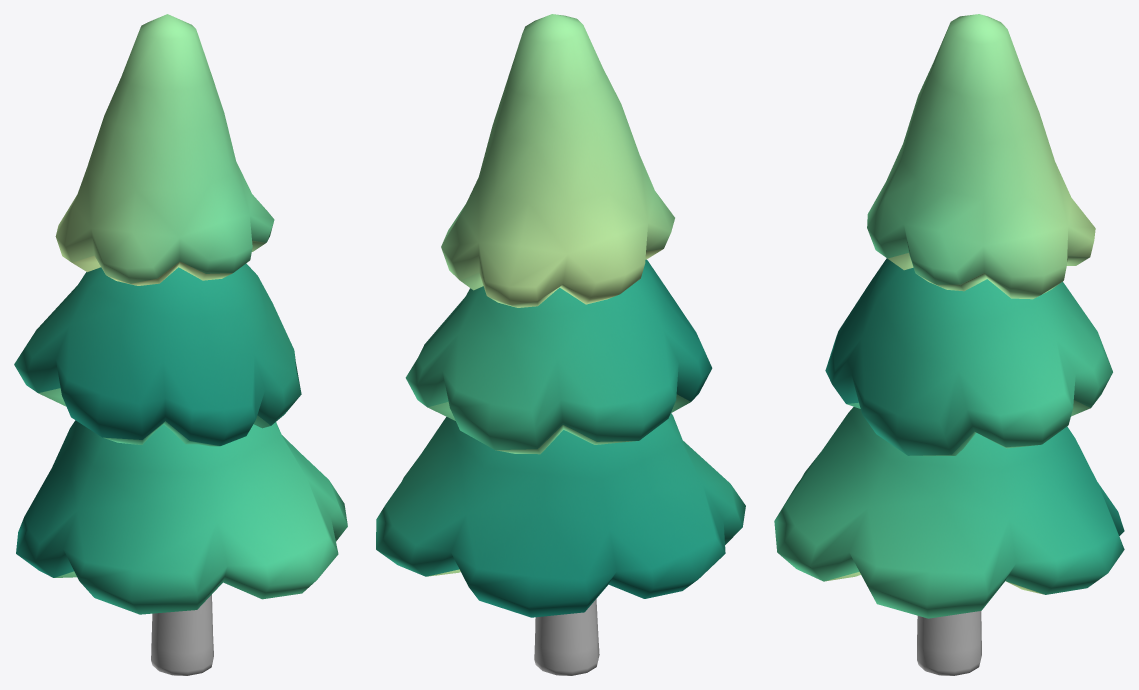
File: ThreeTreeFinal.fbx
3 views of the same model, side by side, from view 1: azimuth 30°, elevation 25°; view 2: azimuth 150°, elevation 25°; view 3: azimuth 270°, elevation 25° (orthographic). The views are drawn at different scales.
Visible parts, largest first — view 1: T3_Low, Stick_Low; view 2: T3_Low, Stick_Low; view 3: T3_Low, Stick_Low.
Part boxes in pixels (x1,y1,x2,y2): T3_Low: (14,14,347,614); Stick_Low: (151,594,213,675); T3_Low: (376,14,745,617); Stick_Low: (534,599,599,675); T3_Low: (774,14,1124,618); Stick_Low: (917,611,981,675).
Bounding box in the file's own units: 497 × 1010 × 493.
